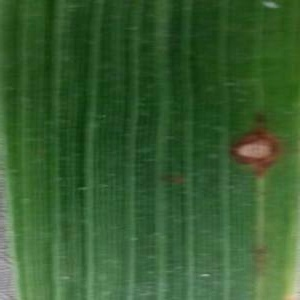Brown_Spot: (201, 106, 290, 200)
